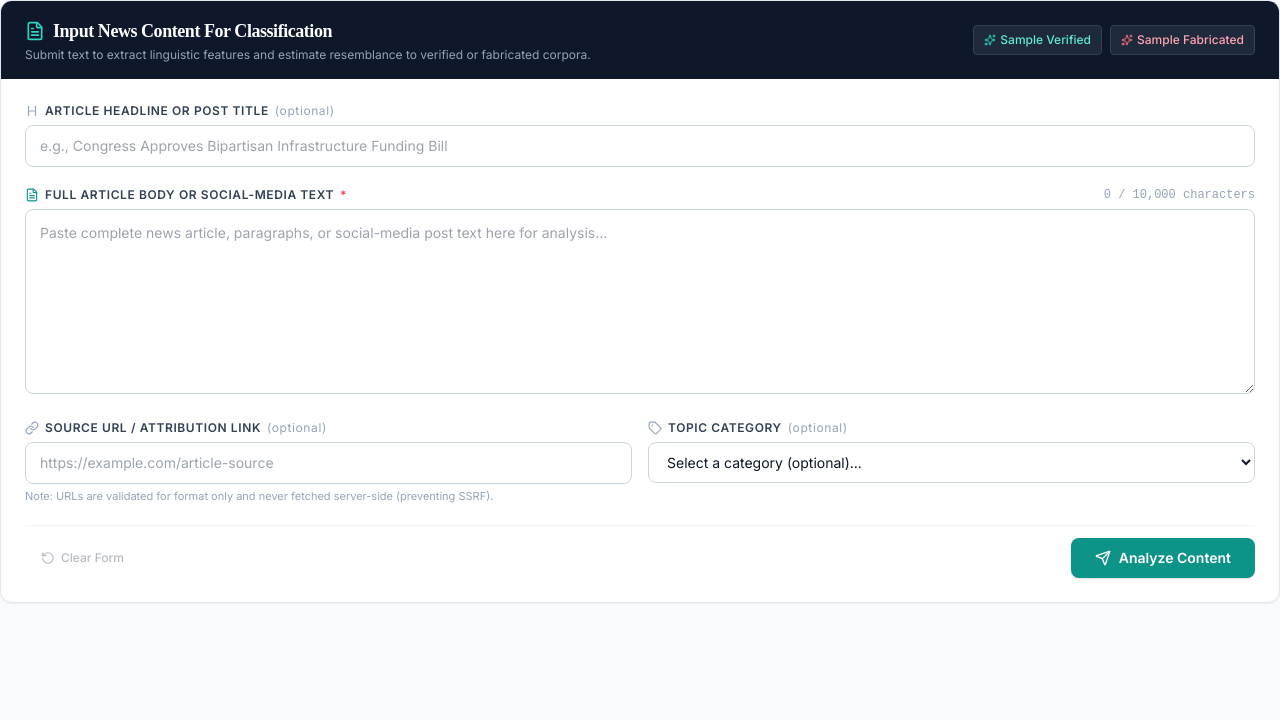
NewsInputForm Component › validates empty submission and shows error message
What coordinates should you click on to do the following:
click the button "Analyze Content"
I would click on:
 (1163, 558)
Its box is [1071,538,1255,578].
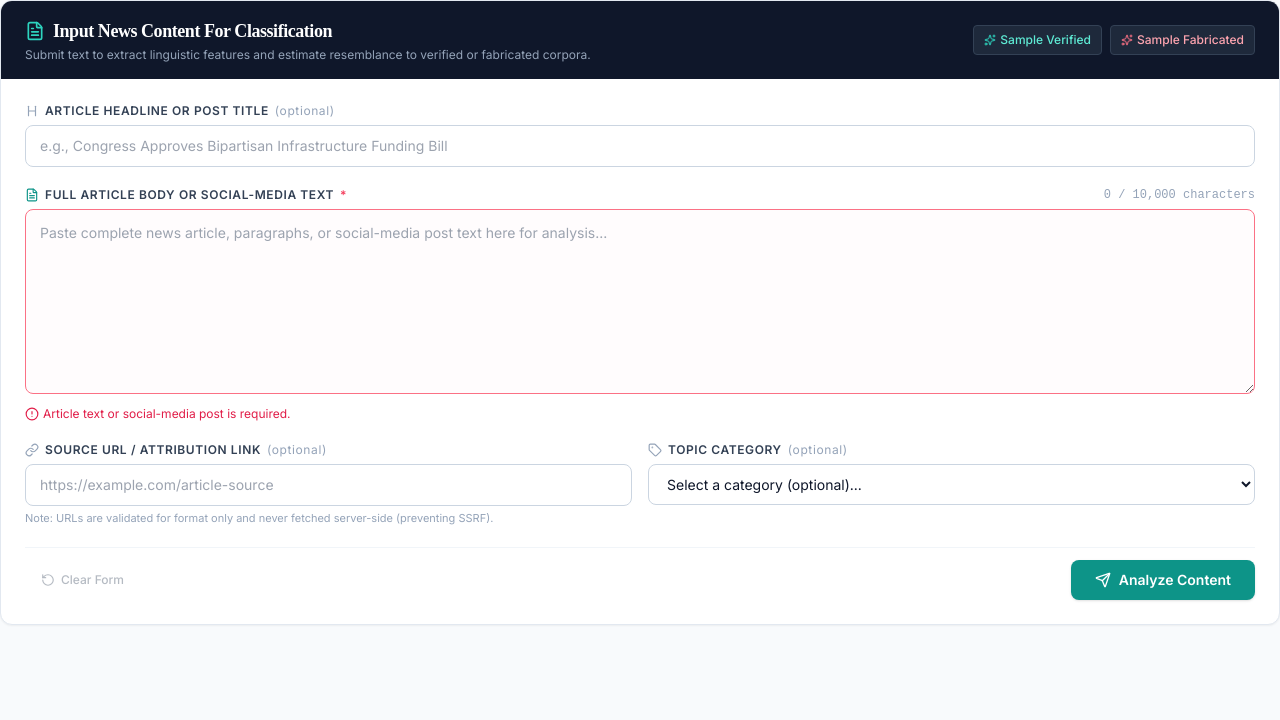
Now the text "Article text or social-media post is required." is shown, box [25,406,291,421]
